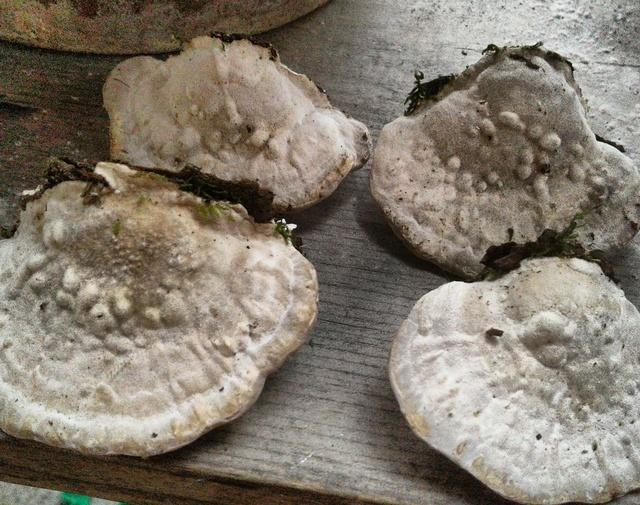poisonous_mushroom: (0, 29, 374, 457), (355, 231, 638, 505), (368, 41, 638, 279)
